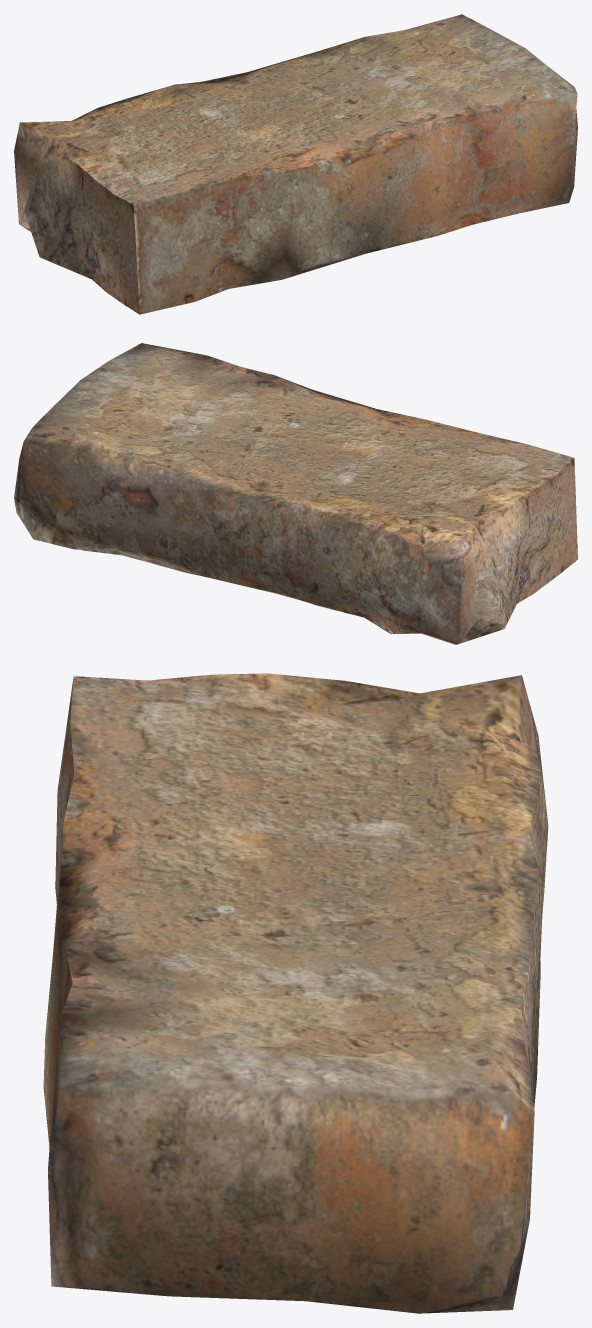
File: SM_Brick_01_06.fbx
3 renders of one model, top to bottom at view 1: azimuth 30°, elevation 25°; view 2: azimuth 150°, elevation 25°; view 3: azimuth 270°, elevation 25°, orthographic. The views are drawn at different scales.
Parts seen in each view (by area): view 1: sm_Brick_01_06_LOD0; view 2: sm_Brick_01_06_LOD0; view 3: sm_Brick_01_06_LOD0.
Boxes of the visible parts, left/top/right/bottom form: sm_Brick_01_06_LOD0: left=14, top=14, right=577, bottom=314; sm_Brick_01_06_LOD0: left=14, top=343, right=577, bottom=644; sm_Brick_01_06_LOD0: left=43, top=673, right=548, bottom=1313.
Bounding box in the file's own units: 12.23 × 26.34 × 6.72.
